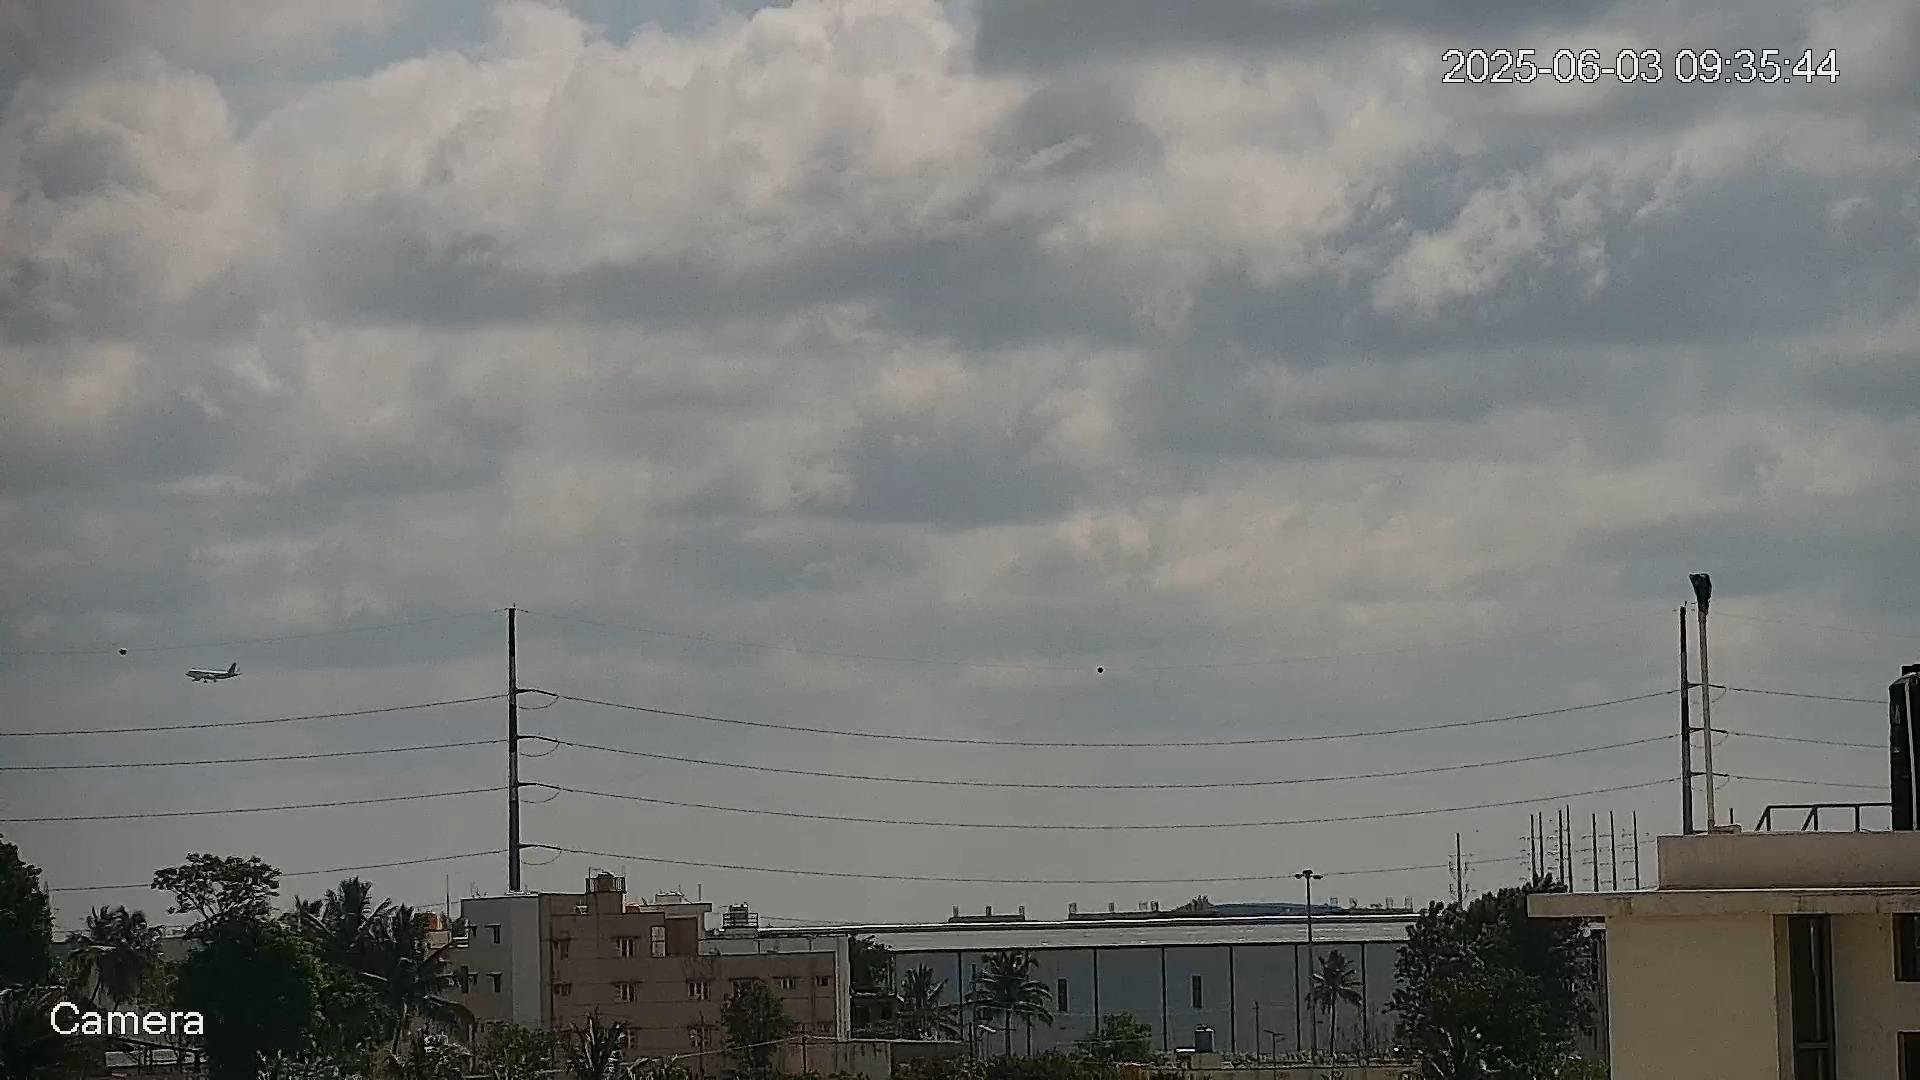Aircraft: (186, 662, 244, 684)
